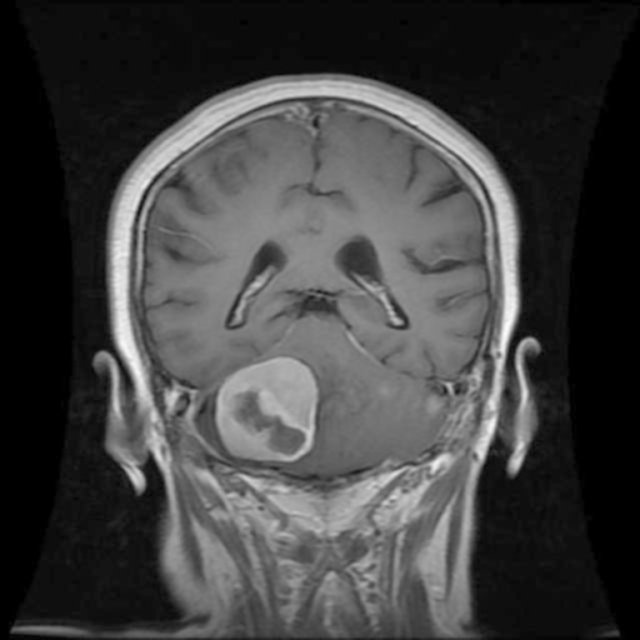meningioma tumor: (201, 360, 324, 466)
